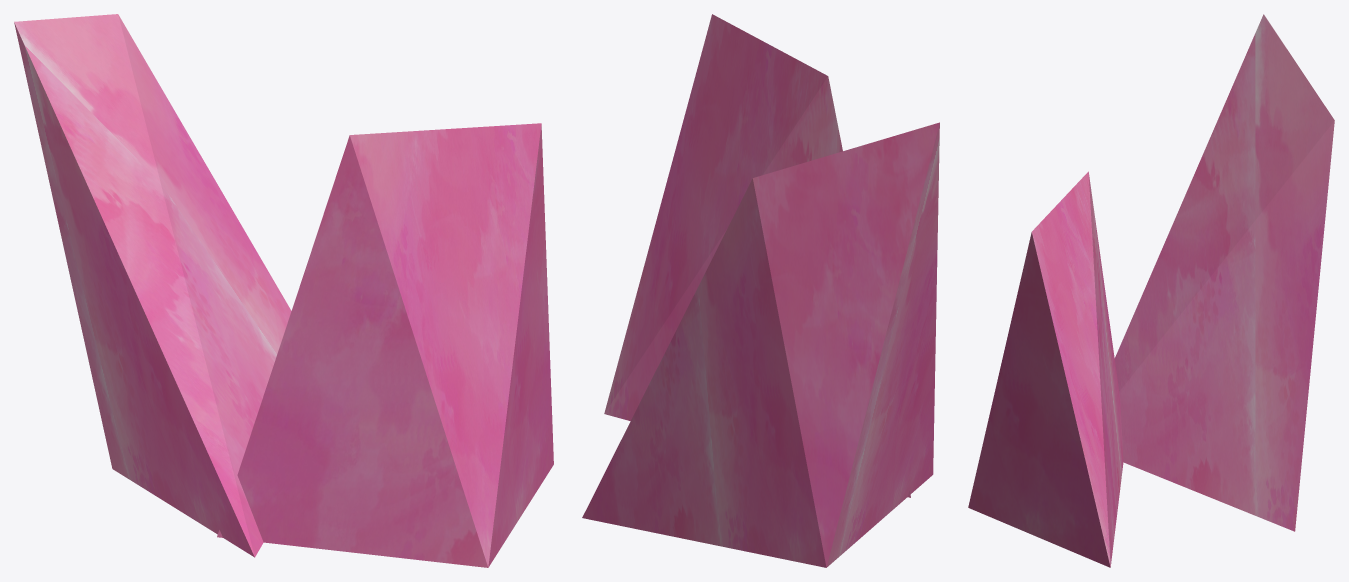
File: pasto.fbx
3 renders of one model, left to right at view 1: azimuth 30°, elevation 25°; view 2: azimuth 150°, elevation 25°; view 3: azimuth 270°, elevation 25°, orthographic. The views are drawn at different scales.
Parts seen in each view (by area): view 1: Componen13; view 2: Componen13; view 3: Componen13.
Part boxes in pixels (x1,y1,x2,y2): Componen13: (14, 14, 553, 567); Componen13: (582, 14, 939, 567); Componen13: (968, 14, 1334, 567).
Size of the model in its own units: 1.31 by 1.35 by 1.18.
1 material, 1 textured.
